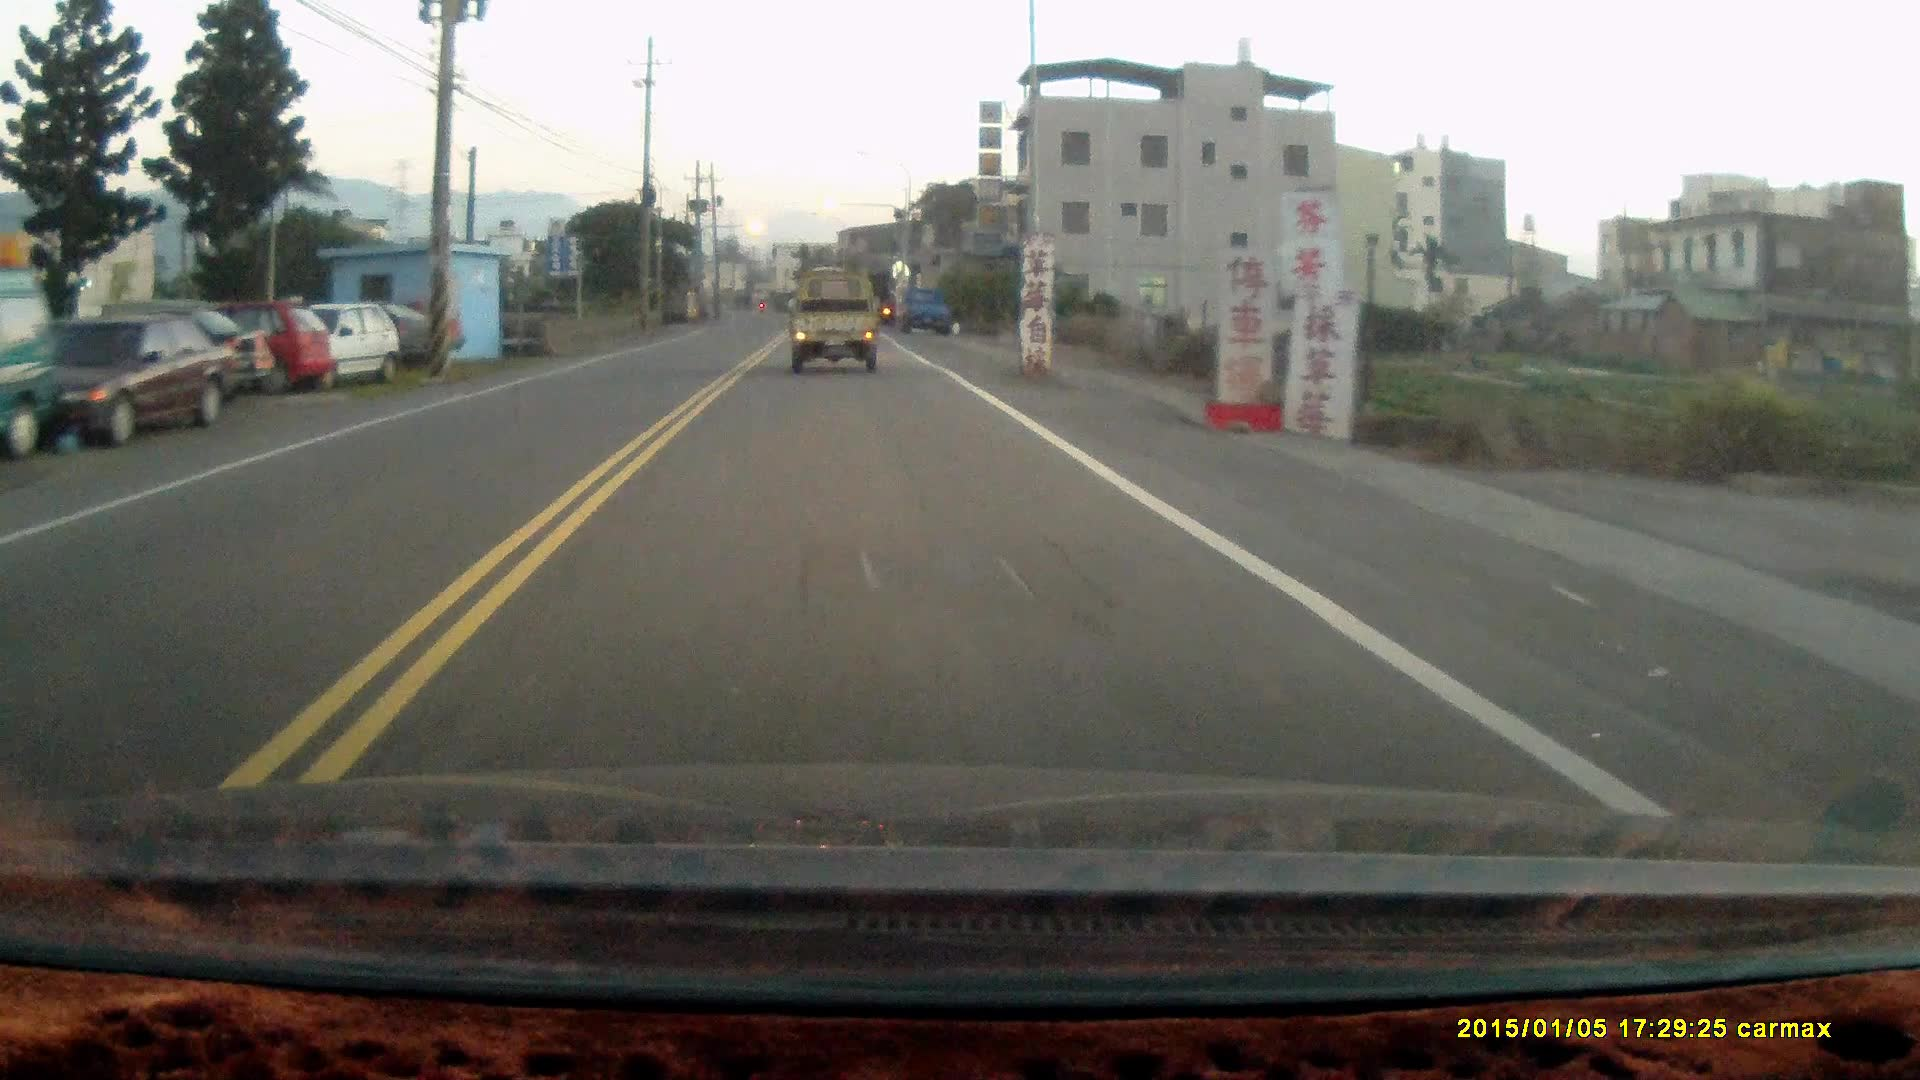vehicle: (15, 309, 240, 452), (164, 301, 339, 390), (1, 268, 65, 444), (266, 303, 404, 382), (793, 268, 884, 377), (901, 287, 957, 338)
